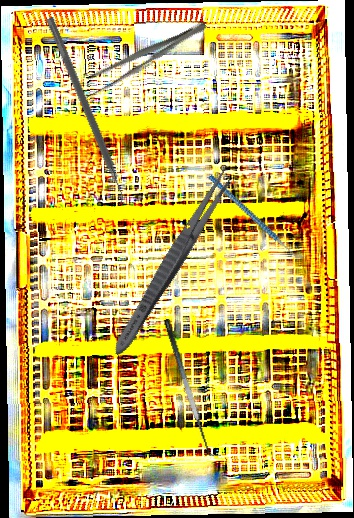Chopper: (207, 153, 307, 280)
Dressing Forceps: (107, 161, 239, 361), (78, 14, 211, 102)
Spatula Surgical: (37, 16, 132, 207), (162, 315, 222, 461)
